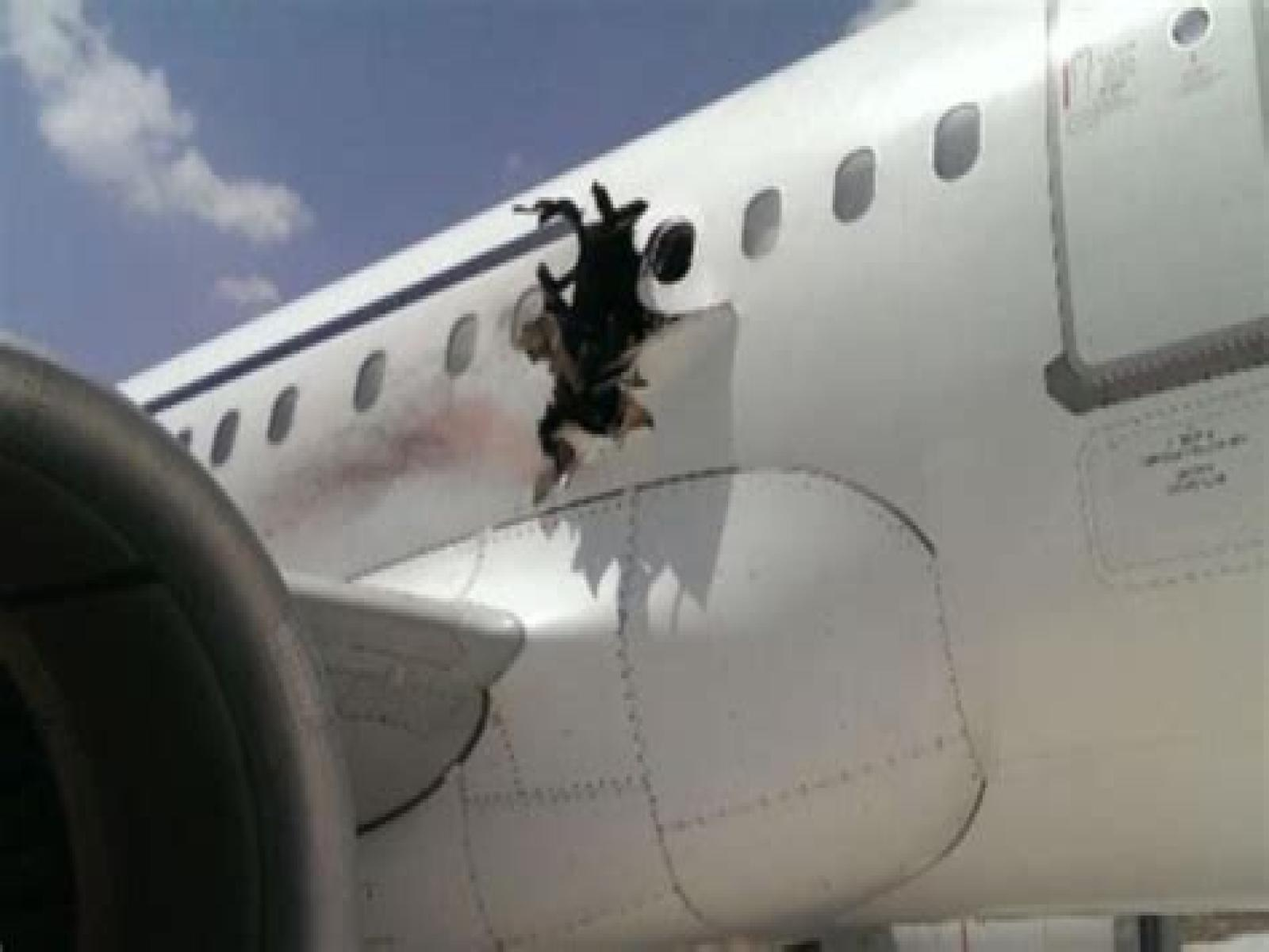Fuselage_damage: (517, 182, 672, 500)
Skin_Cover: (517, 182, 672, 500)
